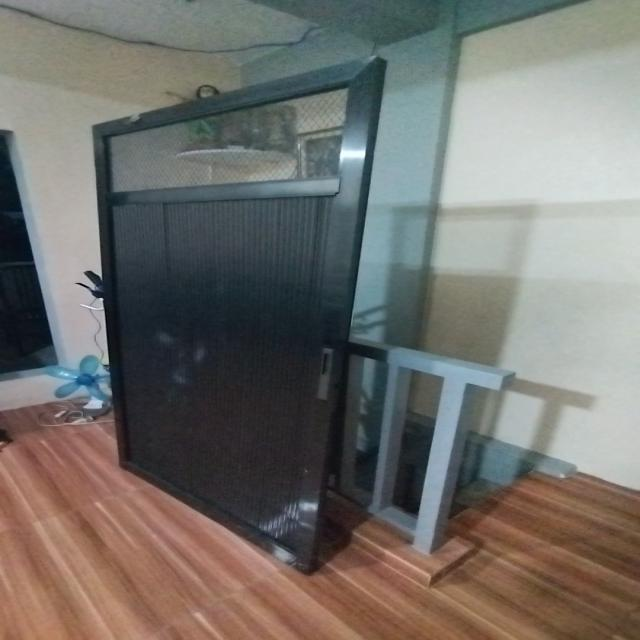door: (85, 55, 375, 566)
